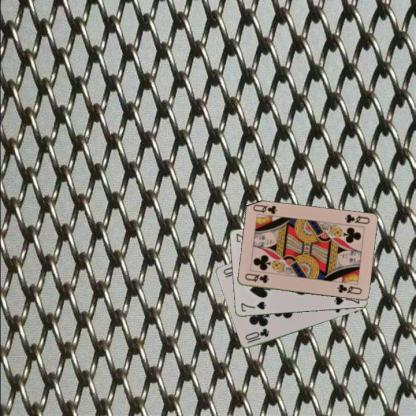10c: (243, 326, 270, 344)
7s: (238, 299, 267, 313)
Qc: (342, 212, 371, 225), (242, 271, 270, 284)
